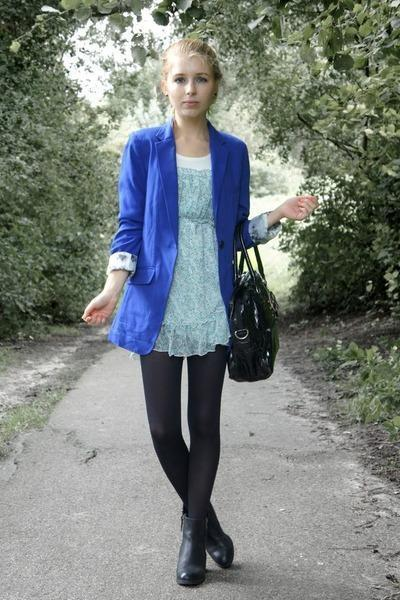bag: (228, 252, 278, 381)
jacket: (106, 121, 276, 354)
shirt: (153, 153, 230, 371)
shoe: (176, 516, 233, 587)
